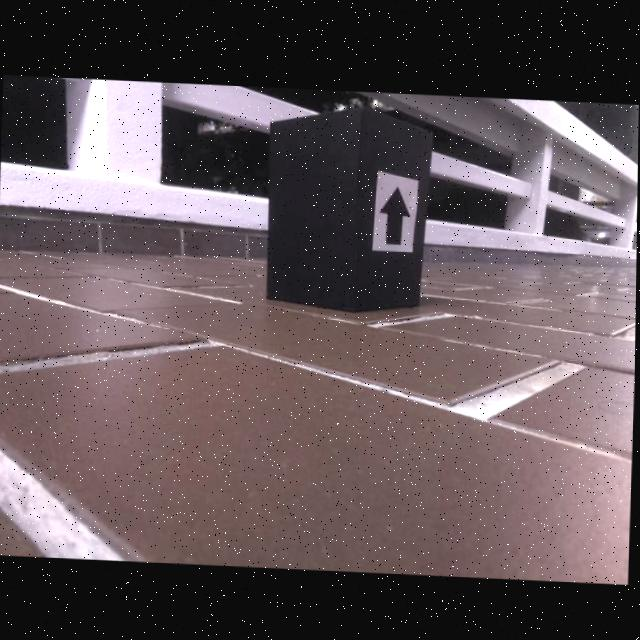UP: (379, 183, 413, 244)
